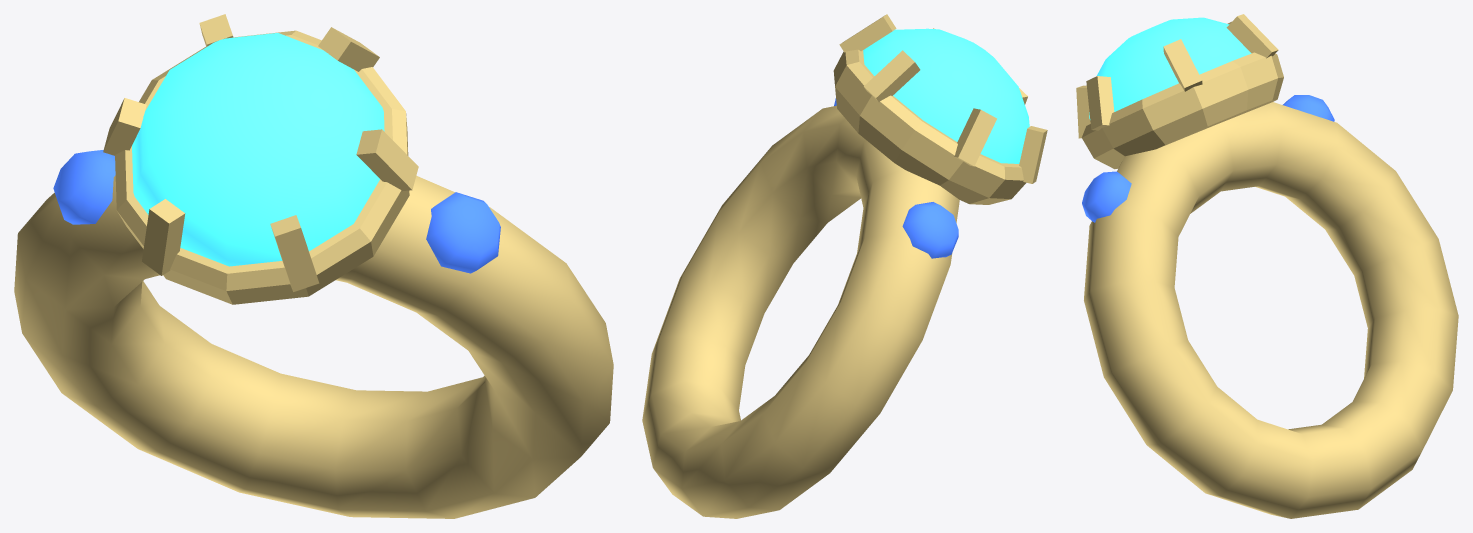
File: AnilloOro.glb
The picture shows the model from 3 angles, left to right: view 1: azimuth 30°, elevation 25°; view 2: azimuth 150°, elevation 25°; view 3: azimuth 270°, elevation 25°; orthographic projection. The views are drawn at different scales.
Visible parts, largest first — view 1: AnilloOro; view 2: AnilloOro; view 3: AnilloOro.
Boxes of the visible parts, x1,y1,x2,y2 form: AnilloOro: [14, 14, 613, 518]; AnilloOro: [642, 14, 1047, 518]; AnilloOro: [1076, 14, 1458, 518].
Size of the model in its own units: 0.1027 by 0.1249 by 0.1023.
